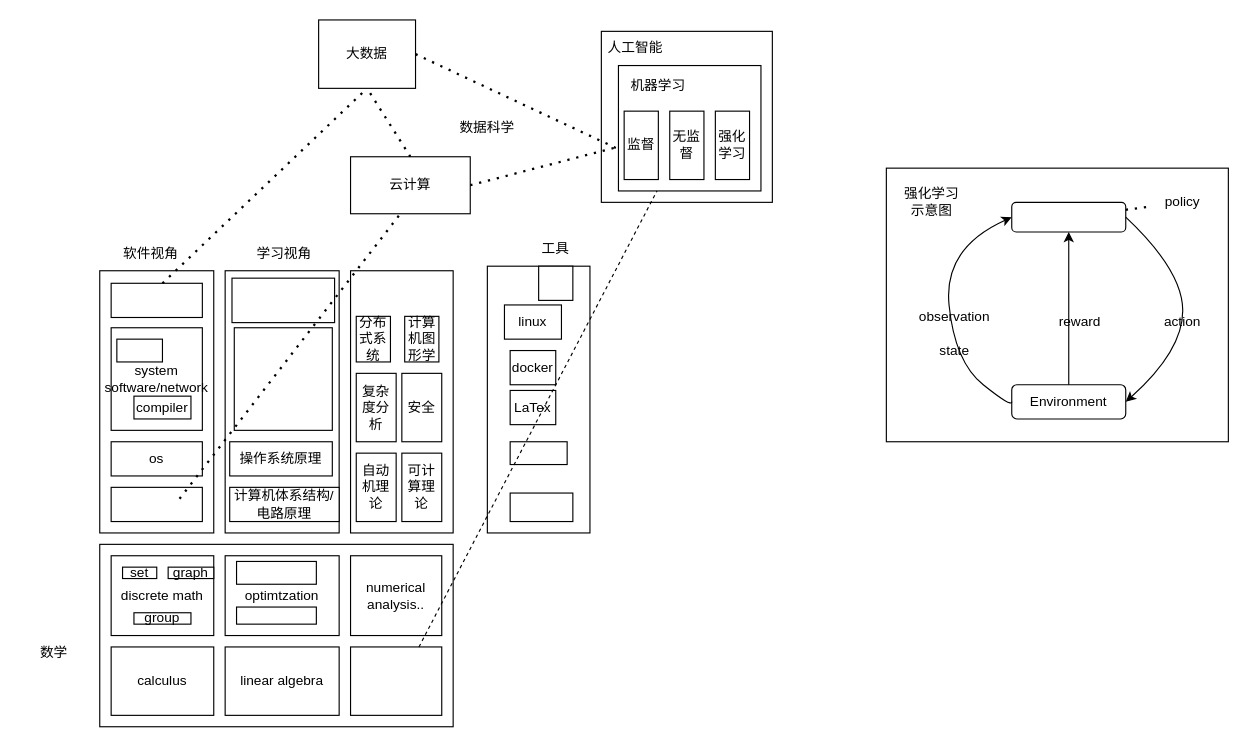
The diagram is 1248 pixels wide and 747 high, and some of its shapes have lost their labels. Here are the shapes that lost their labels. From the top down, the centre of each, then its label:
At point (1068, 216): "Agent".
At point (156, 299): "application".
At point (283, 300): "程序设计/软件工程/设计模式".
At point (555, 282): "make".
At point (139, 350): "library".
At point (282, 378): "编译原理 计算机网络 数据库".
At point (538, 453): "ide".
At point (156, 504): "hardware".
At point (541, 507): "git".
At point (275, 572): "operational research".
At point (275, 615): "convex opt".
At point (395, 680): "probability and statistic".
